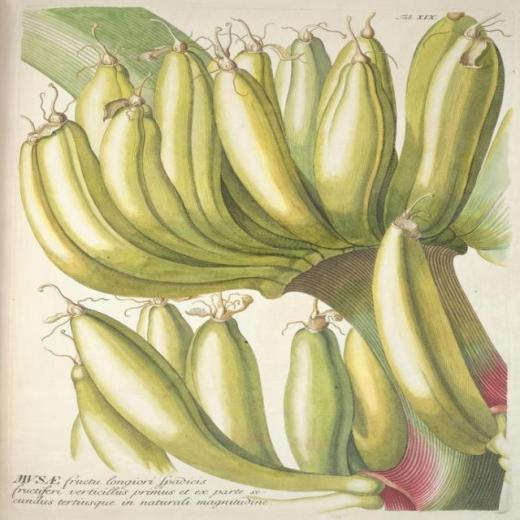Banana: (21, 14, 501, 508)
